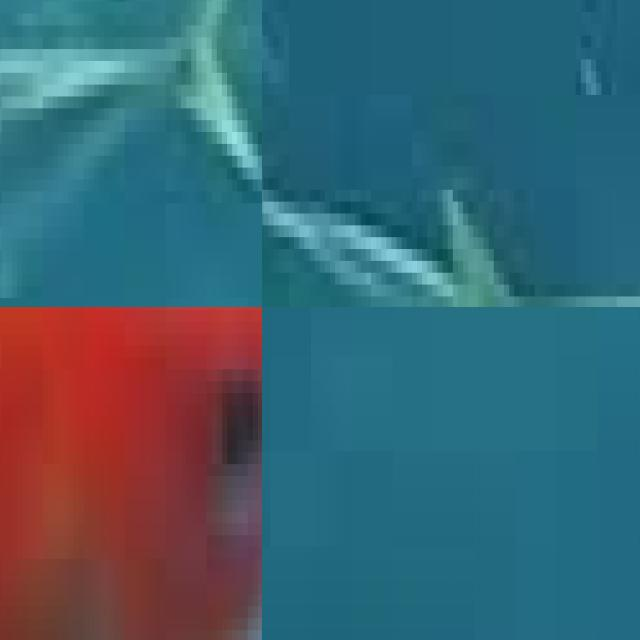fish: (0, 307, 262, 640), (0, 0, 262, 307)
